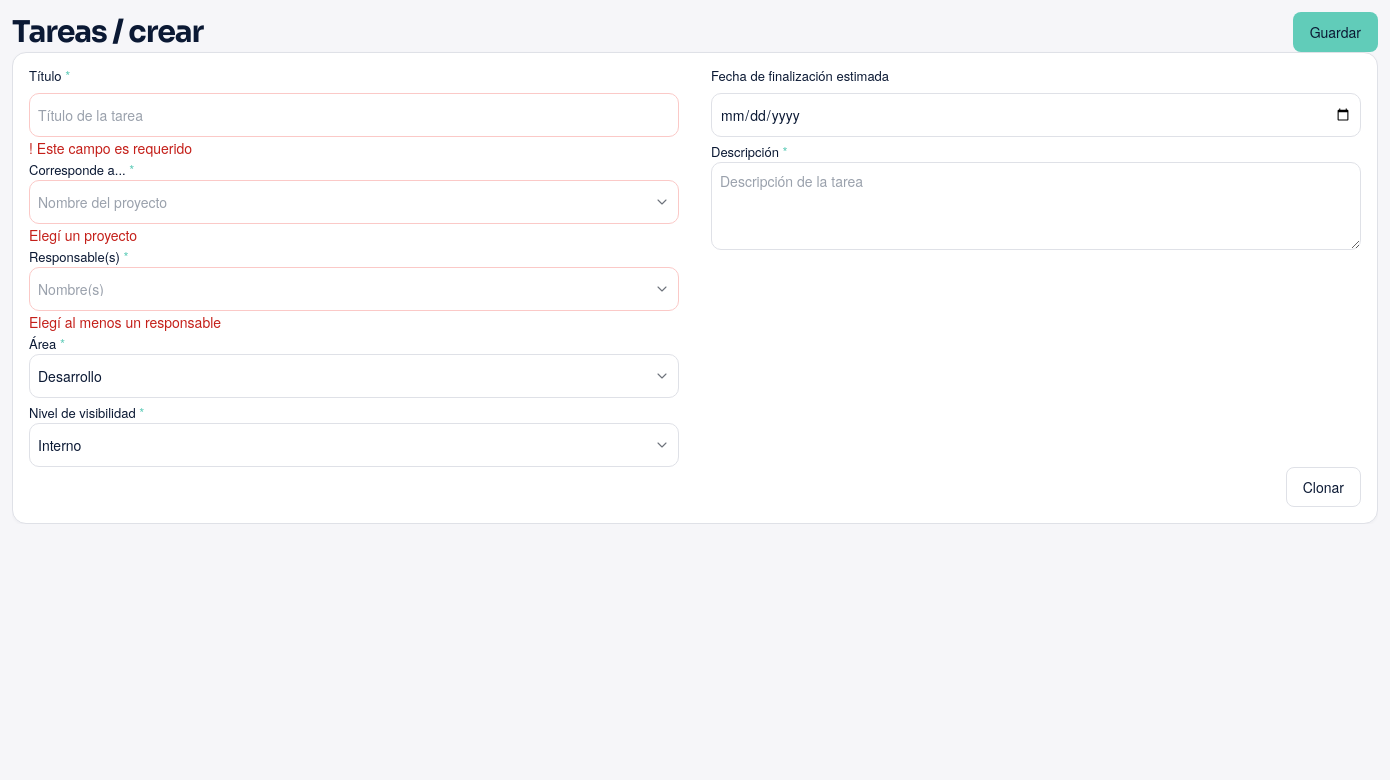
Test: Objectives new/page — campo Requisito (AC-7, AC-9, AC-10) › AC-7: muestra el selector "Requisito" cuando hay un proyecto seleccionado
What coordinates should you click on to do the following:
click the dropdown named "Corresponde a..."
I would click on:
 (102, 202)
Its box is [29, 180, 679, 224].
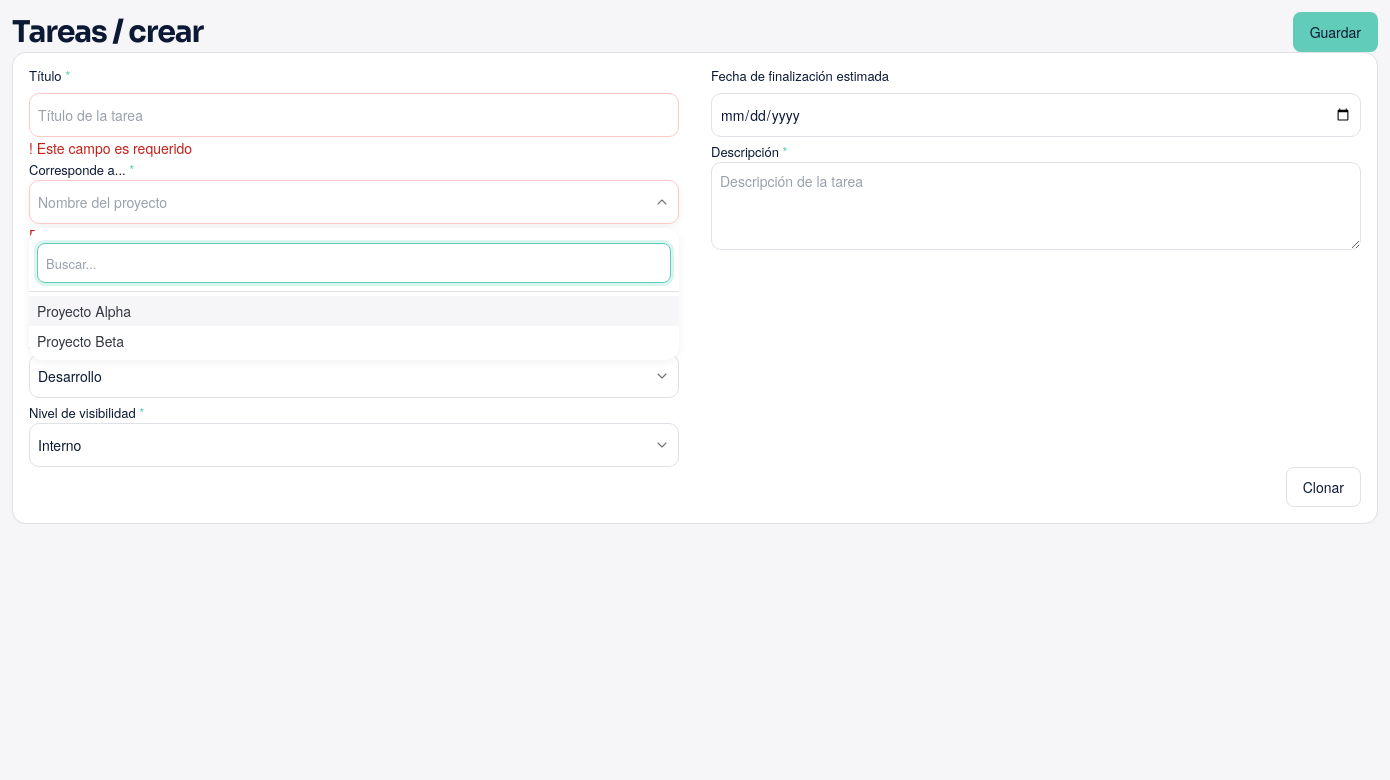
What coordinates should you click on to do the following:
click the option "Proyecto Alpha"
I would click on:
 (84, 311)
Its box is [29, 296, 679, 326].
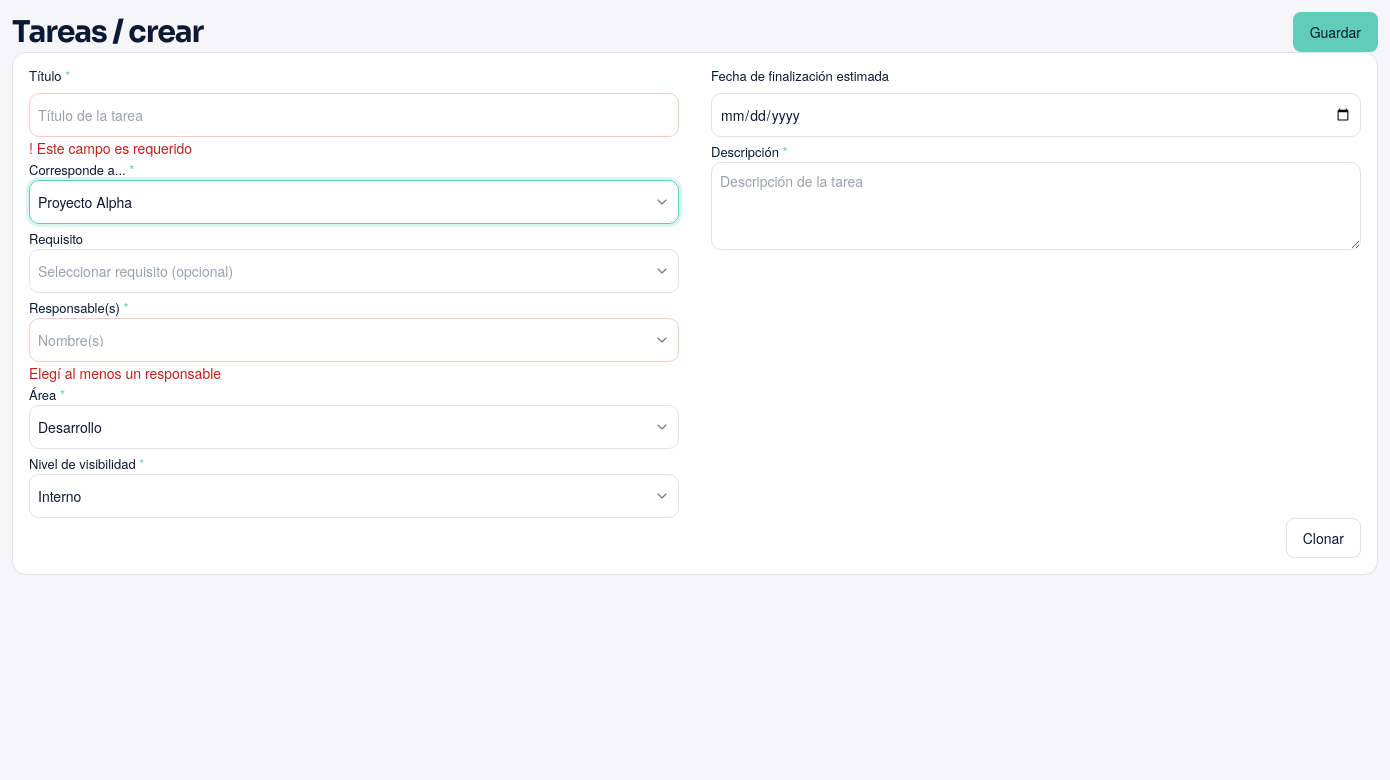
Check: the dropdown labelled "requisito" is shown, box [29, 249, 679, 293]
